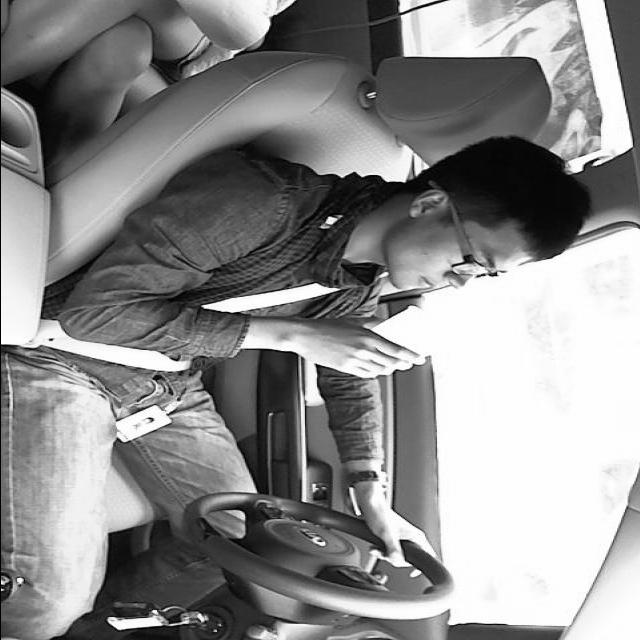drinking: (346, 304, 442, 380)
